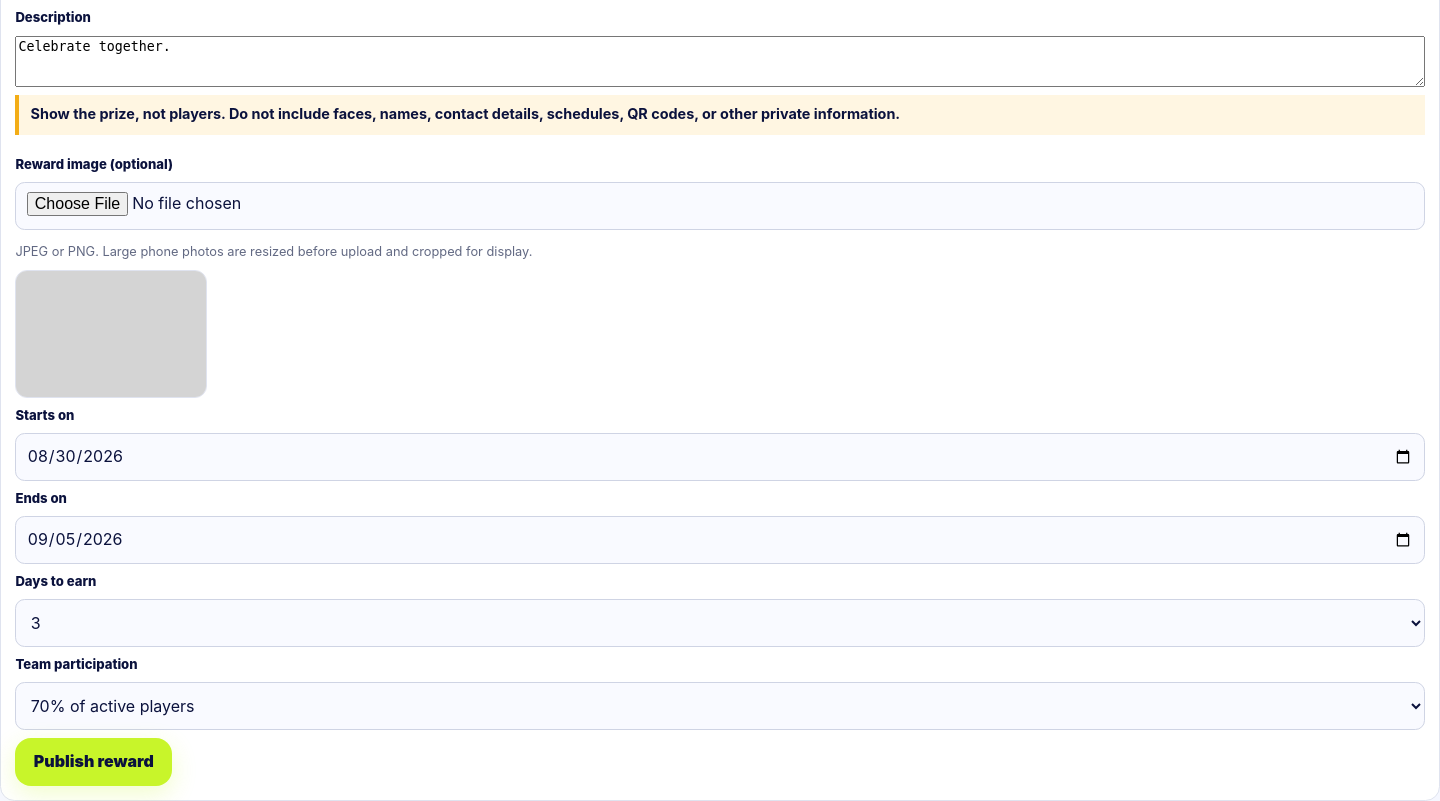
team reward panel › previews and uploads the normalized image instead of the oversized source
Earlier steps of the test are not shown.
(page scrolled)
expect the file field labelled "Reward image (optional)" is enabled: met, box x1=15 y1=182 x2=1425 y2=230
Step 1. Click the button "Publish reward" → (94, 762), box x1=15 y1=738 x2=172 y2=786
(page scrolled)
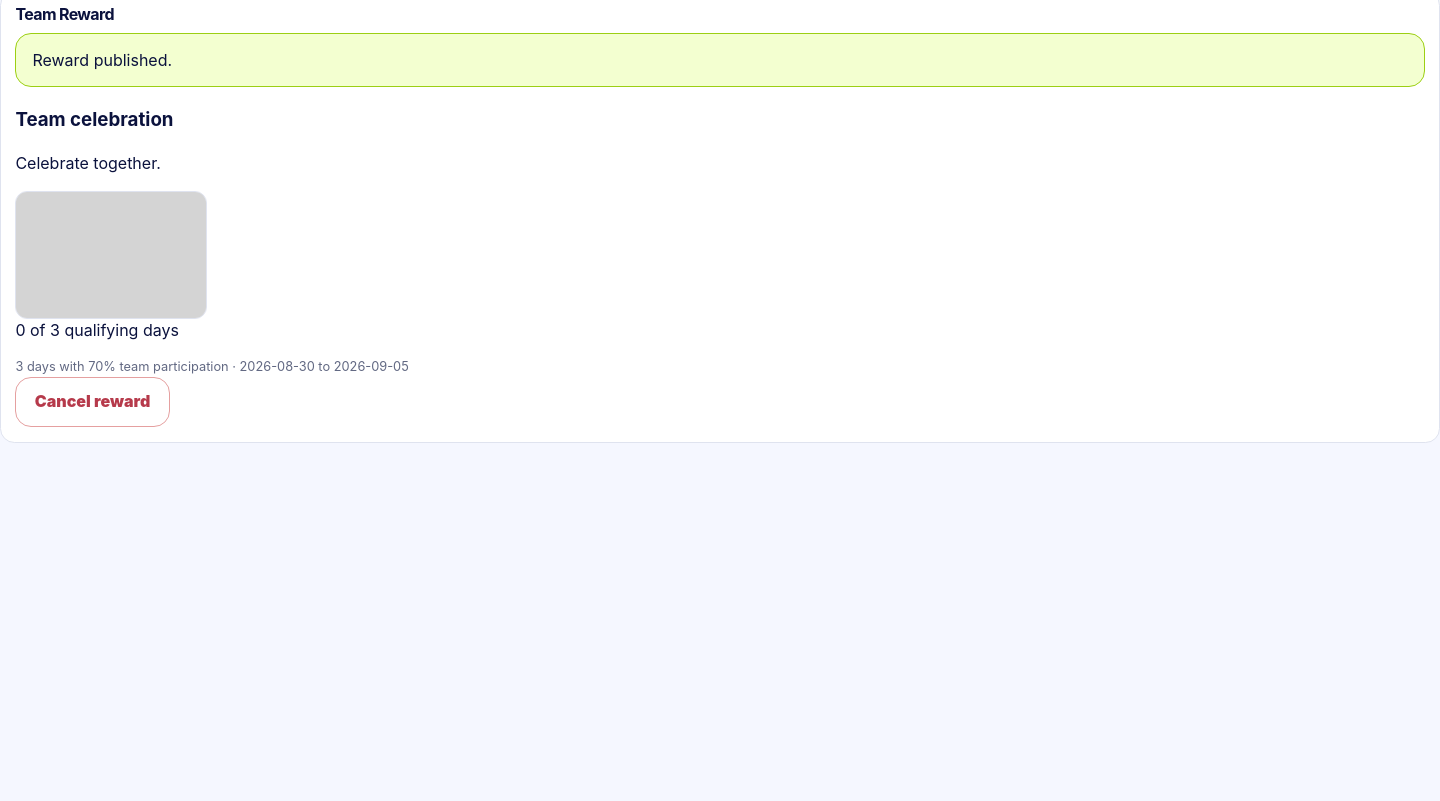
expect the text "Reward published." is shown: met, box x1=15 y1=33 x2=1425 y2=87
